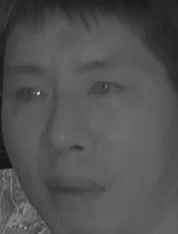eye: (85, 77, 127, 102), (9, 85, 48, 107)
mouth: (42, 167, 107, 210)
